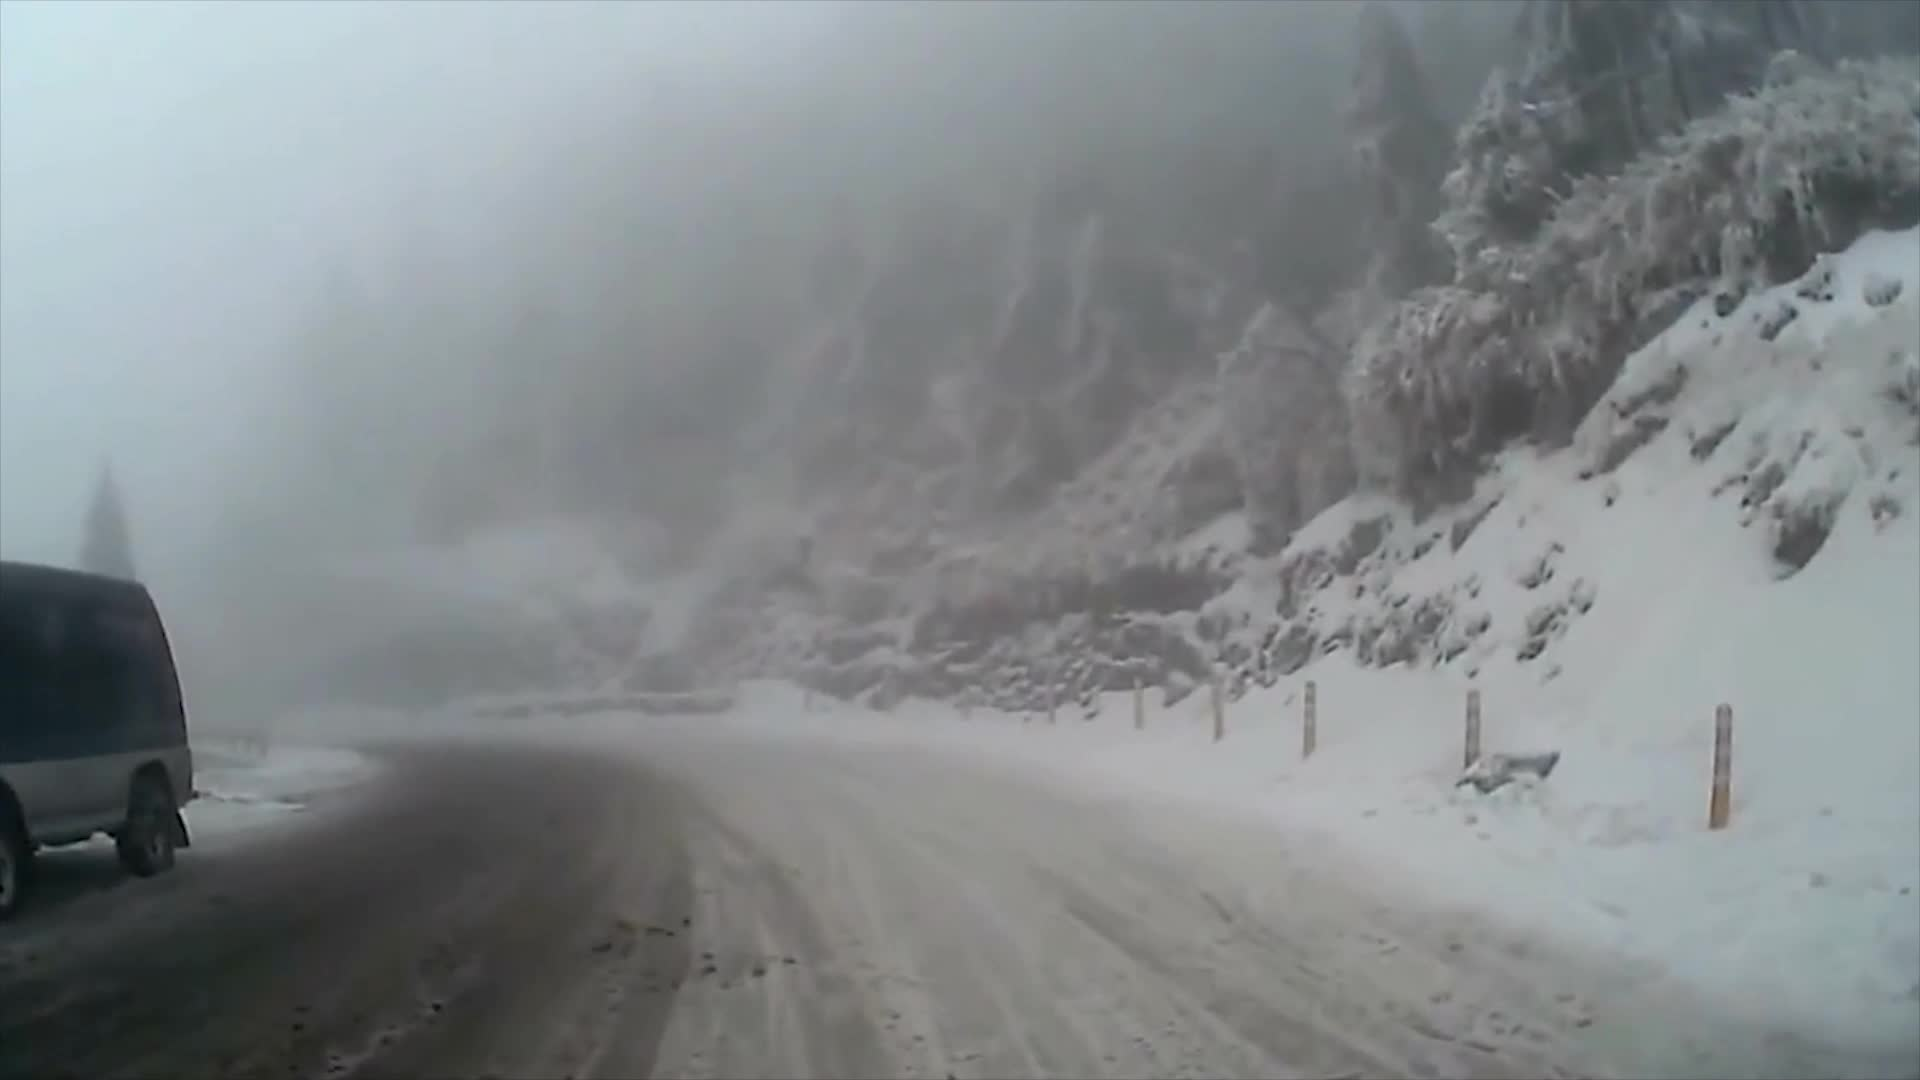vehicle: (0, 560, 200, 914)
